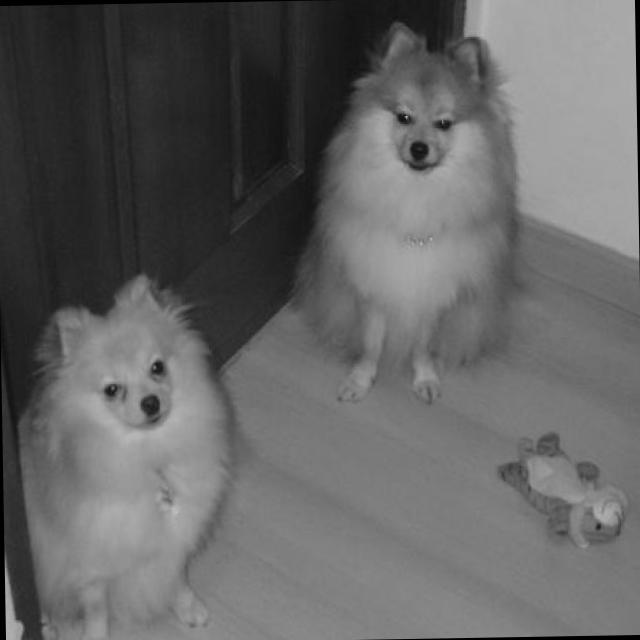sitting: (284, 17, 528, 410), (9, 267, 245, 640)
